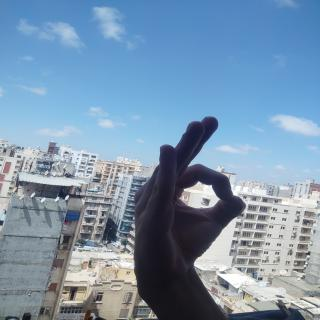Space: (125, 109, 248, 291)
